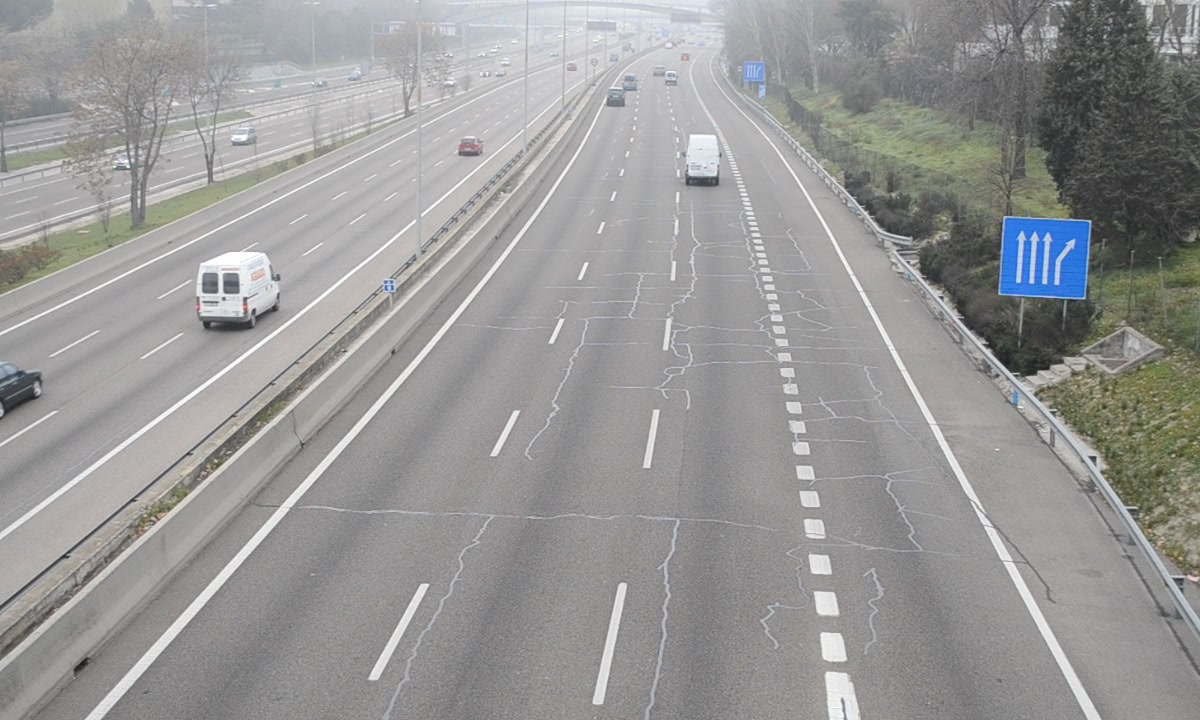van: (684, 133, 723, 188)
